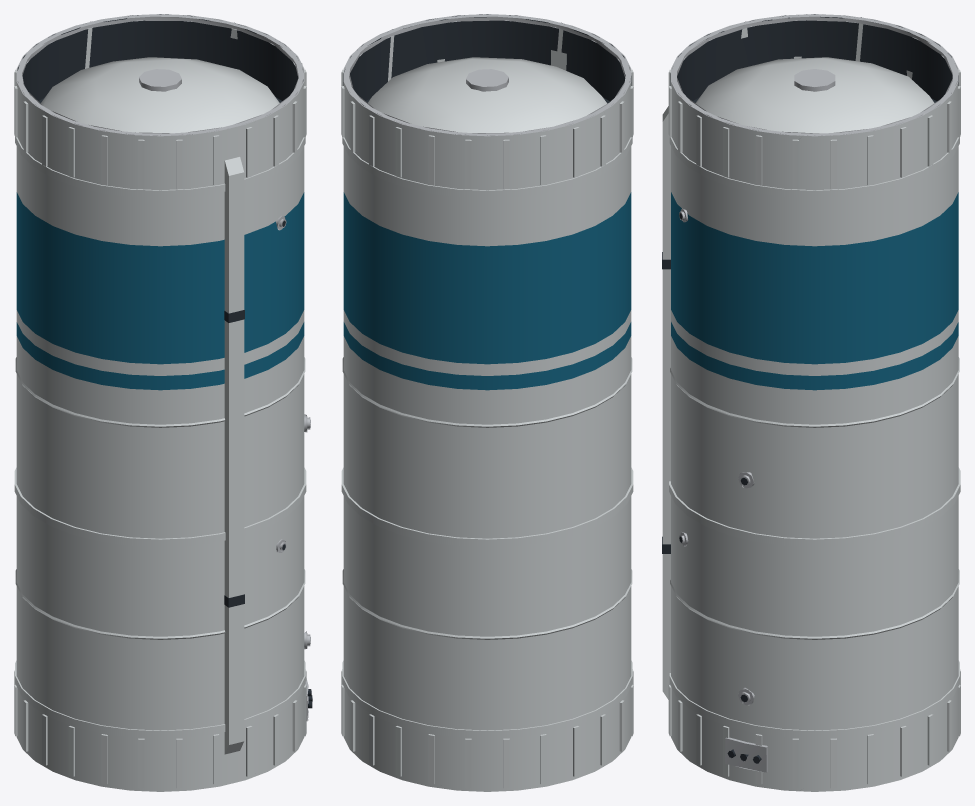
File: tank_s2_xl.glb
The picture shows the model from 3 angles, left to right: view 1: azimuth 30°, elevation 25°; view 2: azimuth 150°, elevation 25°; view 3: azimuth 270°, elevation 25°; orthographic projection.
Visible parts, largest first — view 1: tank_s2_xl_mesh; view 2: tank_s2_xl_mesh; view 3: tank_s2_xl_mesh.
Part boxes in pixels (x1=…): tank_s2_xl_mesh: x1=14, y1=14, x2=312, y2=791; tank_s2_xl_mesh: x1=341, y1=14, x2=633, y2=791; tank_s2_xl_mesh: x1=662, y1=14, x2=960, y2=791.
Size of the model in its own units: 5.48 by 13.5 by 5.57.
